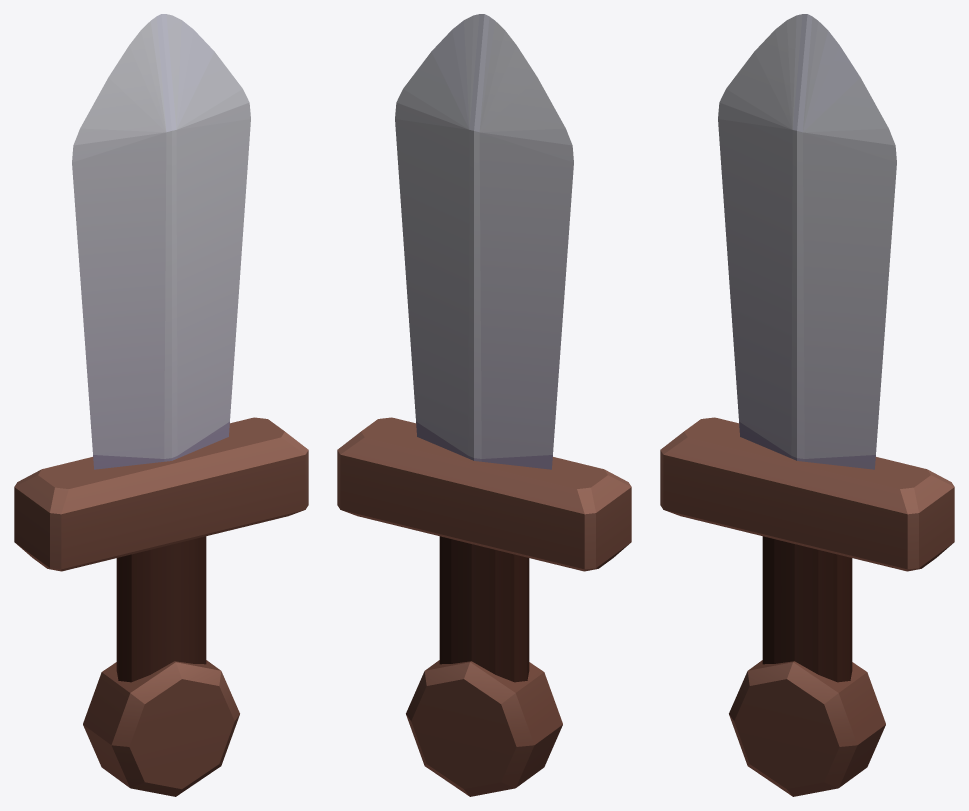
Rendered from sword_1.FBX.
The picture shows the model from 3 angles, left to right: view 1: azimuth 30°, elevation 25°; view 2: azimuth 150°, elevation 25°; view 3: azimuth 330°, elevation 25°; orthographic projection.
Visible parts, largest first — view 1: sword_1; view 2: sword_1; view 3: sword_1.
Boxes of the visible parts, x1,y1,x2,y2 form: sword_1: [14, 14, 308, 796]; sword_1: [337, 14, 631, 796]; sword_1: [660, 14, 954, 796].
Size of the model in its own units: 32.08 by 91.48 by 9.42.
1 material, 1 textured.
